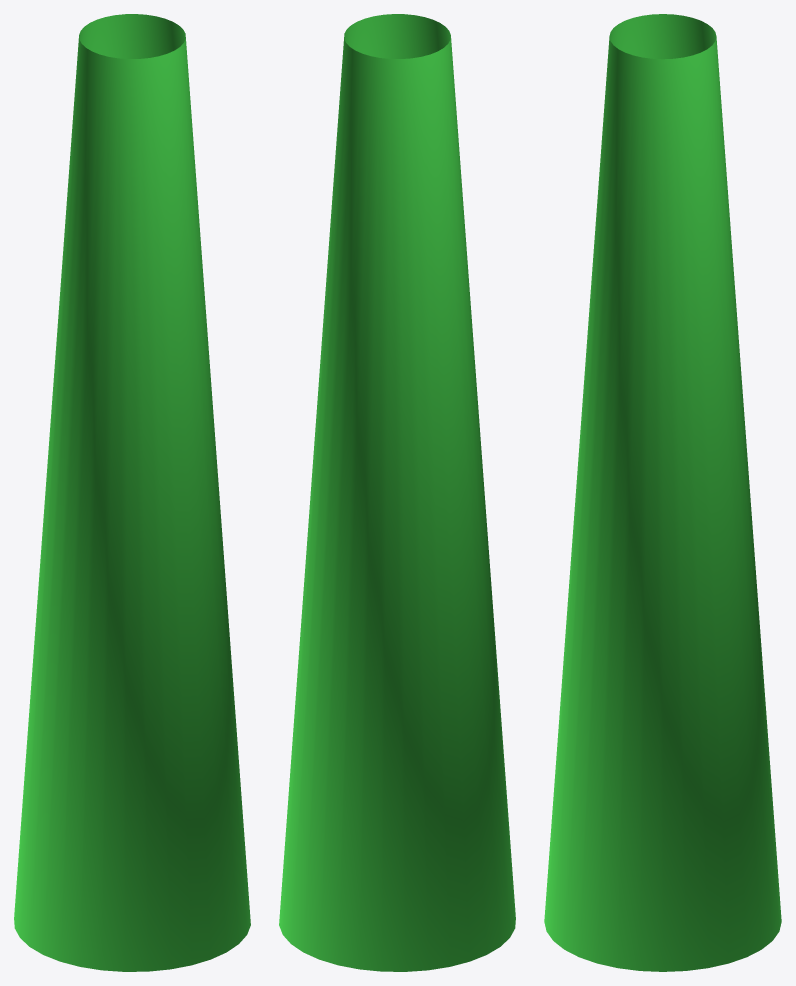
Rendered from Beam.fbx.
The picture shows the model from 3 angles, left to right: view 1: azimuth 30°, elevation 25°; view 2: azimuth 150°, elevation 25°; view 3: azimuth 270°, elevation 25°; orthographic projection.
Parts seen in each view (by area): view 1: Cylinder; view 2: Cylinder; view 3: Cylinder.
Part boxes in pixels (left/top/right/bottom): Cylinder: left=14, top=14, right=250, bottom=971; Cylinder: left=279, top=14, right=515, bottom=971; Cylinder: left=544, top=14, right=781, bottom=971.
Bounding box in the file's own units: 361 × 1485 × 361.
